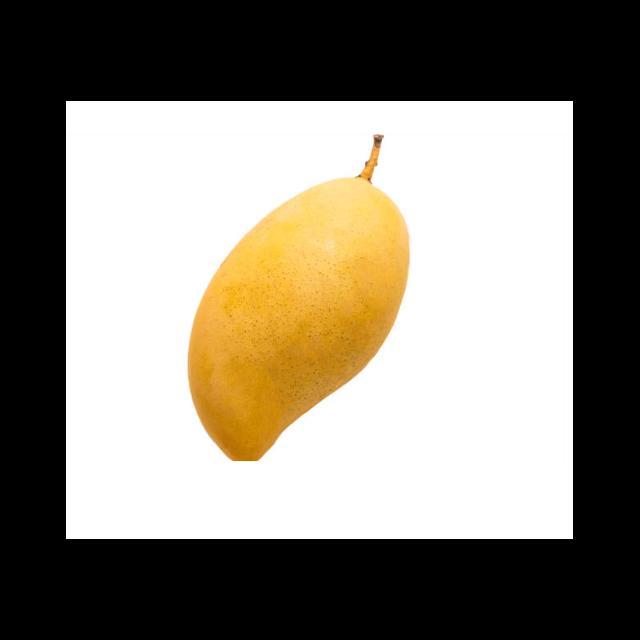mango: (188, 171, 412, 463)
